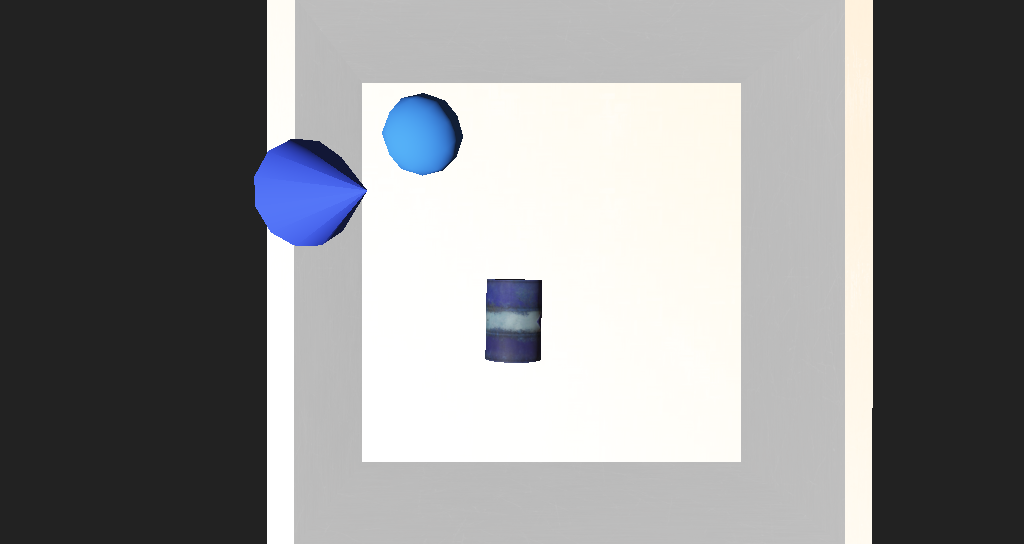cone: (455, 272, 502, 320)
cylinder: (253, 186, 408, 262)
sphere: (374, 167, 435, 215)
